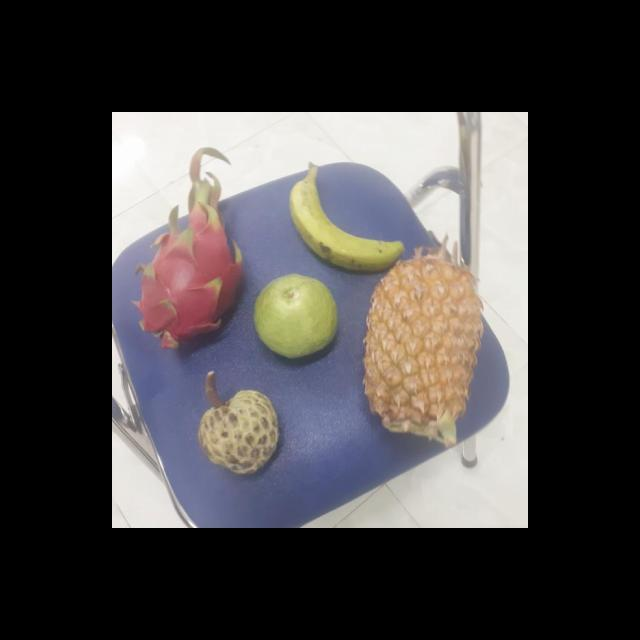Sakya fruit: (198, 388, 286, 475)
banana: (290, 165, 410, 275)
guava: (254, 276, 344, 358)
pineapple: (361, 257, 494, 439)
pitaya: (140, 214, 250, 350)
